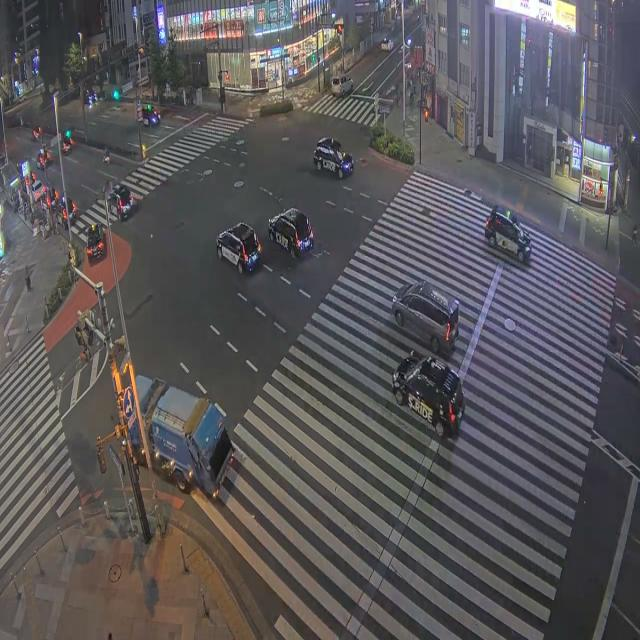car: (393, 352, 464, 437), (392, 281, 458, 353), (485, 206, 530, 262), (269, 208, 313, 258), (217, 223, 261, 273), (314, 138, 353, 178), (108, 185, 134, 220), (86, 223, 106, 261), (58, 196, 77, 223), (331, 75, 353, 96), (142, 104, 160, 127), (32, 180, 46, 201), (47, 186, 59, 207), (62, 135, 74, 156), (37, 150, 50, 169), (84, 89, 98, 106), (381, 38, 393, 51), (32, 127, 42, 141)
motorcycle: (103, 153, 109, 164)
truck: (136, 376, 233, 497)
